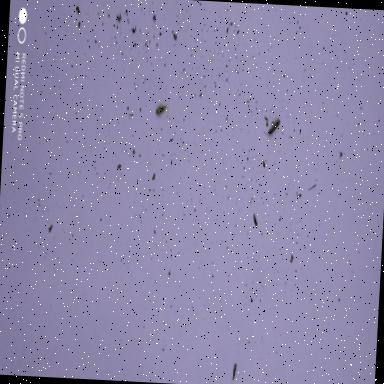pbw: (152, 94, 170, 120), (263, 115, 283, 137)
